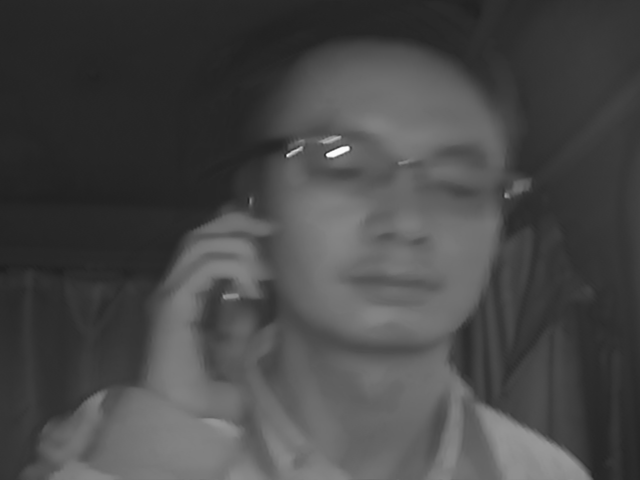hand: (137, 211, 281, 417)
